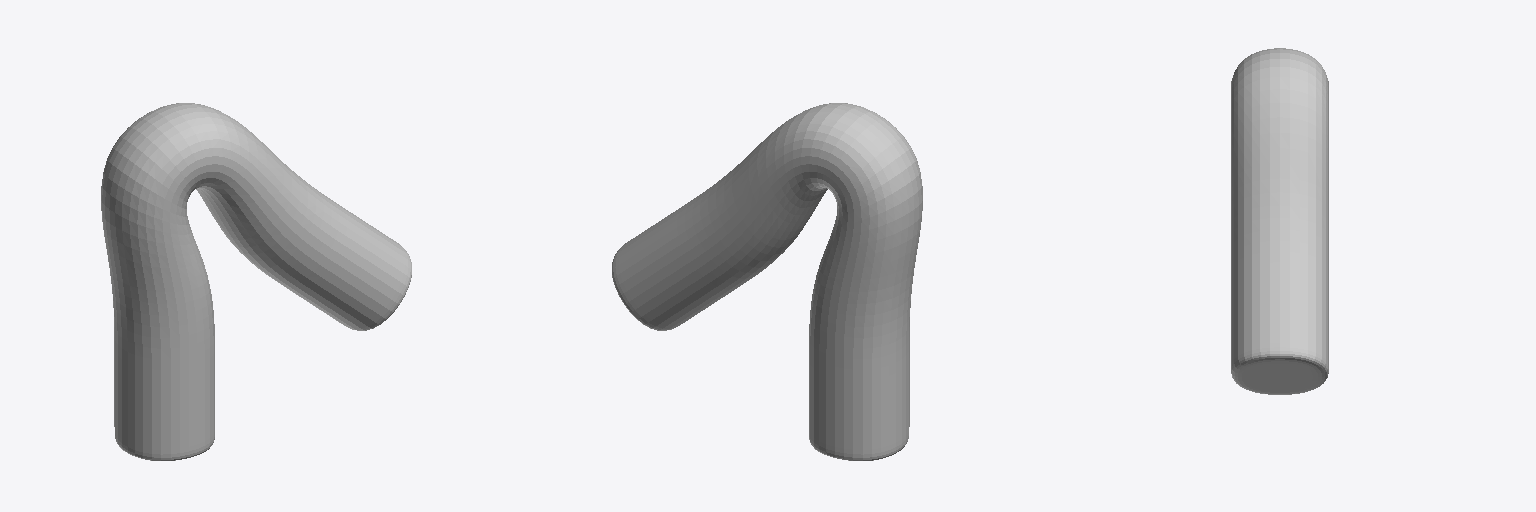
File: arm4.obj
3 views of the same model, side by side, from view 1: azimuth 30°, elevation 25°; view 2: azimuth 150°, elevation 25°; view 3: azimuth 270°, elevation 25° (orthographic).
Parts seen in each view (by area): view 1: Cube; view 2: Cube; view 3: Cube.
Part boxes in pixels (x1,y1,x2,y2): Cube: (101,103,411,460); Cube: (612,103,922,460); Cube: (1231,48,1328,394).
Bounding box in the file's own units: 4.77 × 5.11 × 1.39.